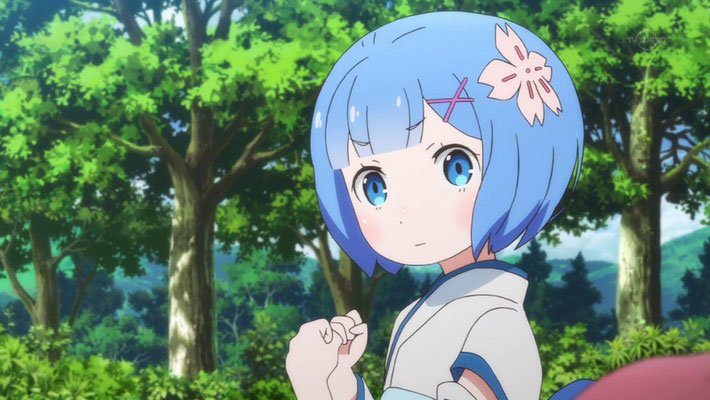rem: (294, 11, 583, 400)
